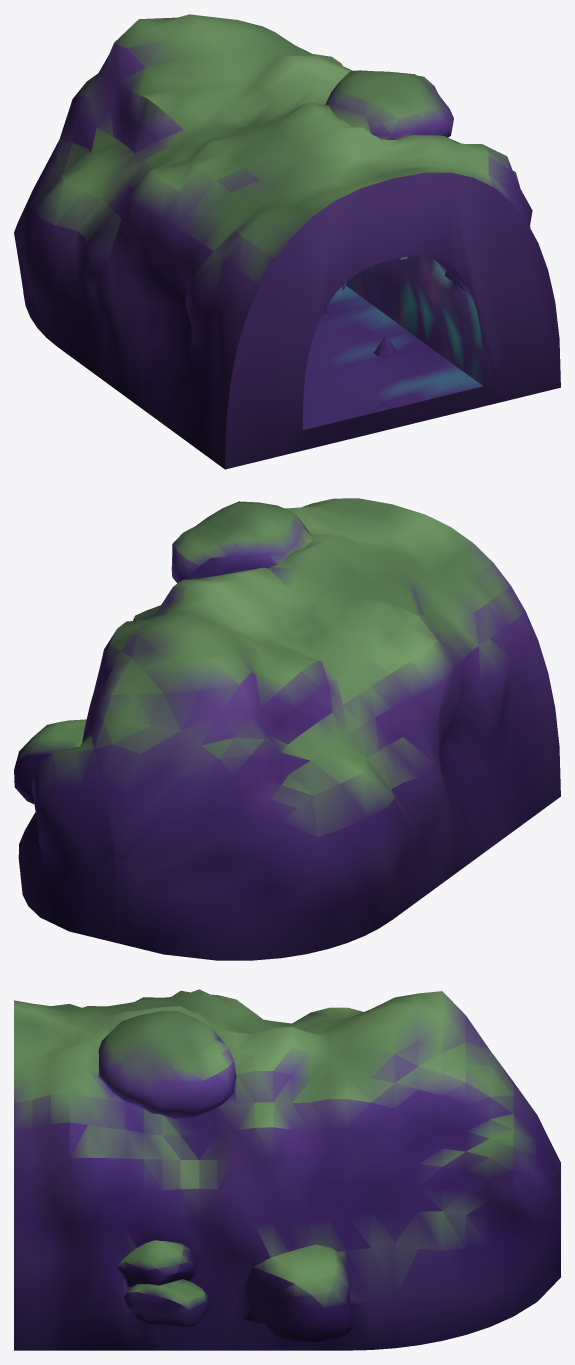
The model's file is hollow_cave_dead_end.glb.
3 views of the same model, one above another, from view 1: azimuth 30°, elevation 25°; view 2: azimuth 150°, elevation 25°; view 3: azimuth 270°, elevation 25° (orthographic).
Parts seen in each view (by area): view 1: hollow_cave_dead_end; view 2: hollow_cave_dead_end; view 3: hollow_cave_dead_end.
Part boxes in pixels (x1=…): hollow_cave_dead_end: x1=14, y1=14, x2=560, y2=469; hollow_cave_dead_end: x1=14, y1=498, x2=560, y2=960; hollow_cave_dead_end: x1=14, y1=989, x2=560, y2=1350.
Bounding box in the file's own units: 12.48 × 8.43 × 14.76.
